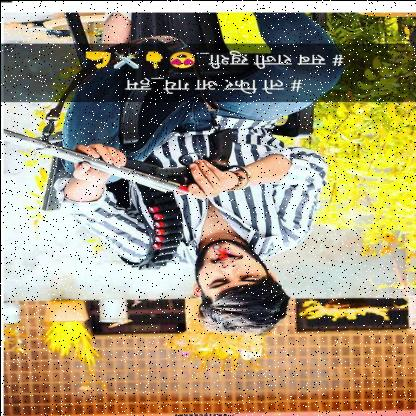rifle: (2, 125, 233, 196)
